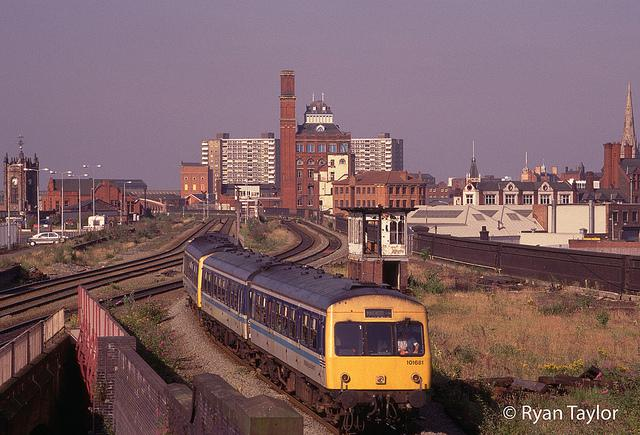Train: (181, 234, 433, 431)
